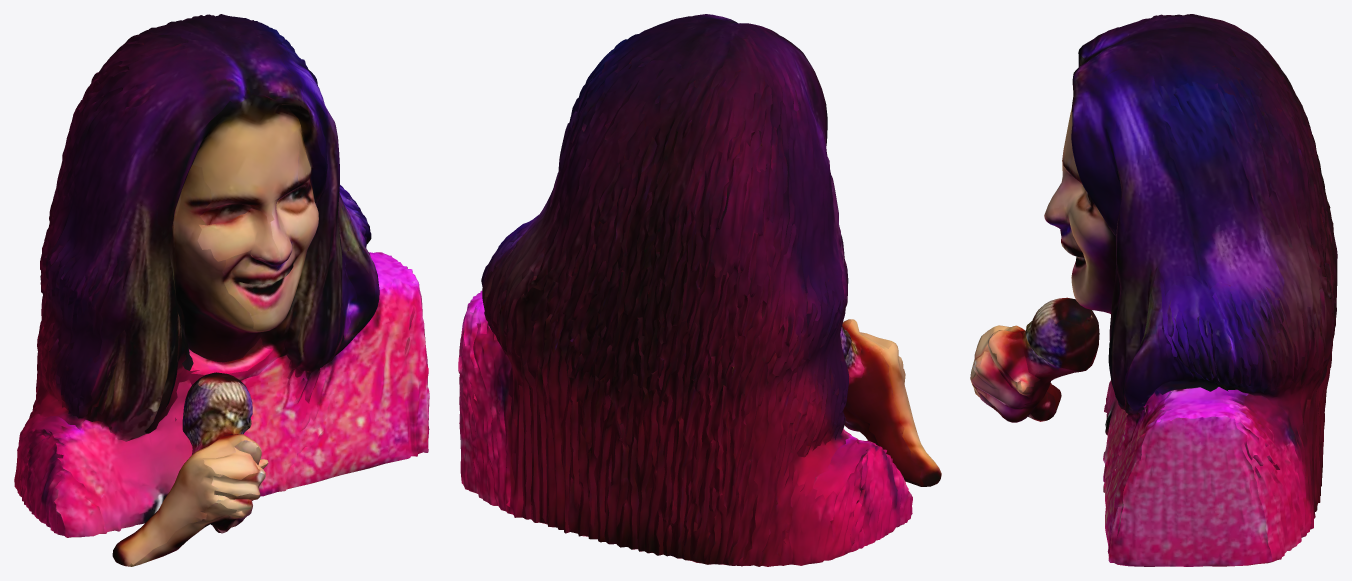
File: Laura_Marano_3D.glb
3 renders of one model, left to right at view 1: azimuth 30°, elevation 25°; view 2: azimuth 150°, elevation 25°; view 3: azimuth 270°, elevation 25°, orthographic. The views are drawn at different scales.
Visible parts, largest first — view 1: world; view 2: world; view 3: world.
Boxes of the visible parts, <box> form: world: <box>14,14,429,566</box>; world: <box>458,14,941,566</box>; world: <box>970,14,1337,566</box>.
Size of the model in its own units: 0.8837 by 0.9896 by 0.7391.
Materials: 1 (1 with a texture image).
